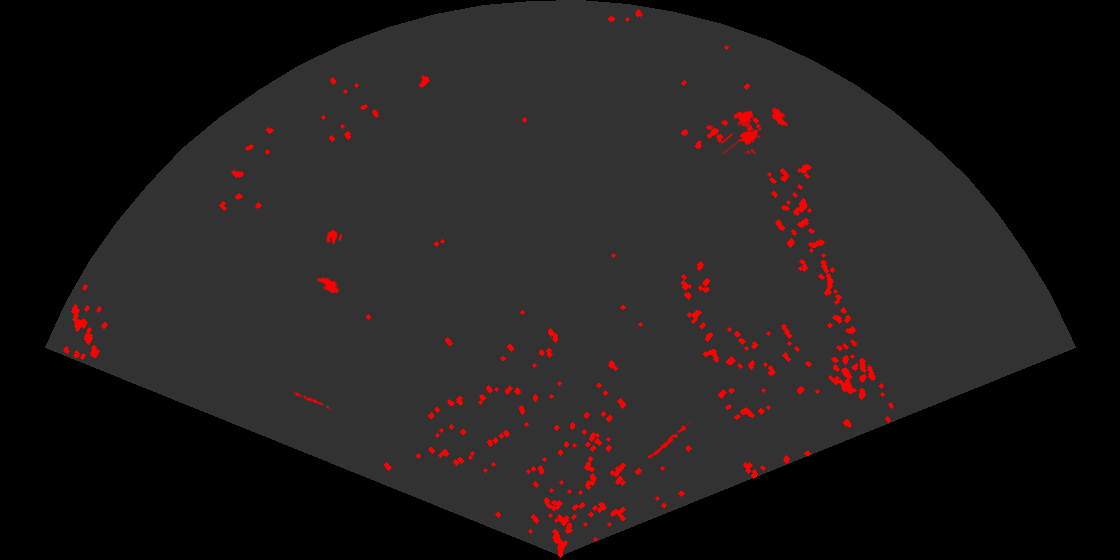AUV: (315, 276, 341, 295), (770, 106, 789, 128)
ball: (324, 228, 344, 246)
cage: (721, 109, 763, 154)
chain: (646, 421, 692, 460), (293, 390, 333, 411)
